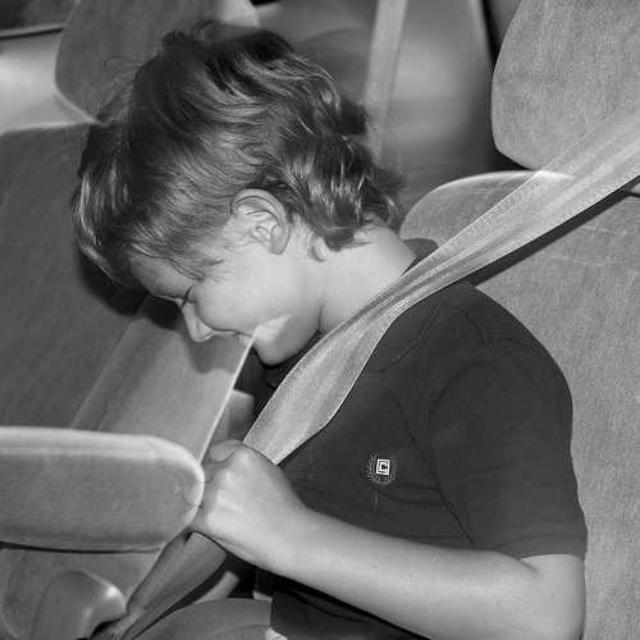Seatbelt: (120, 85, 640, 639)
